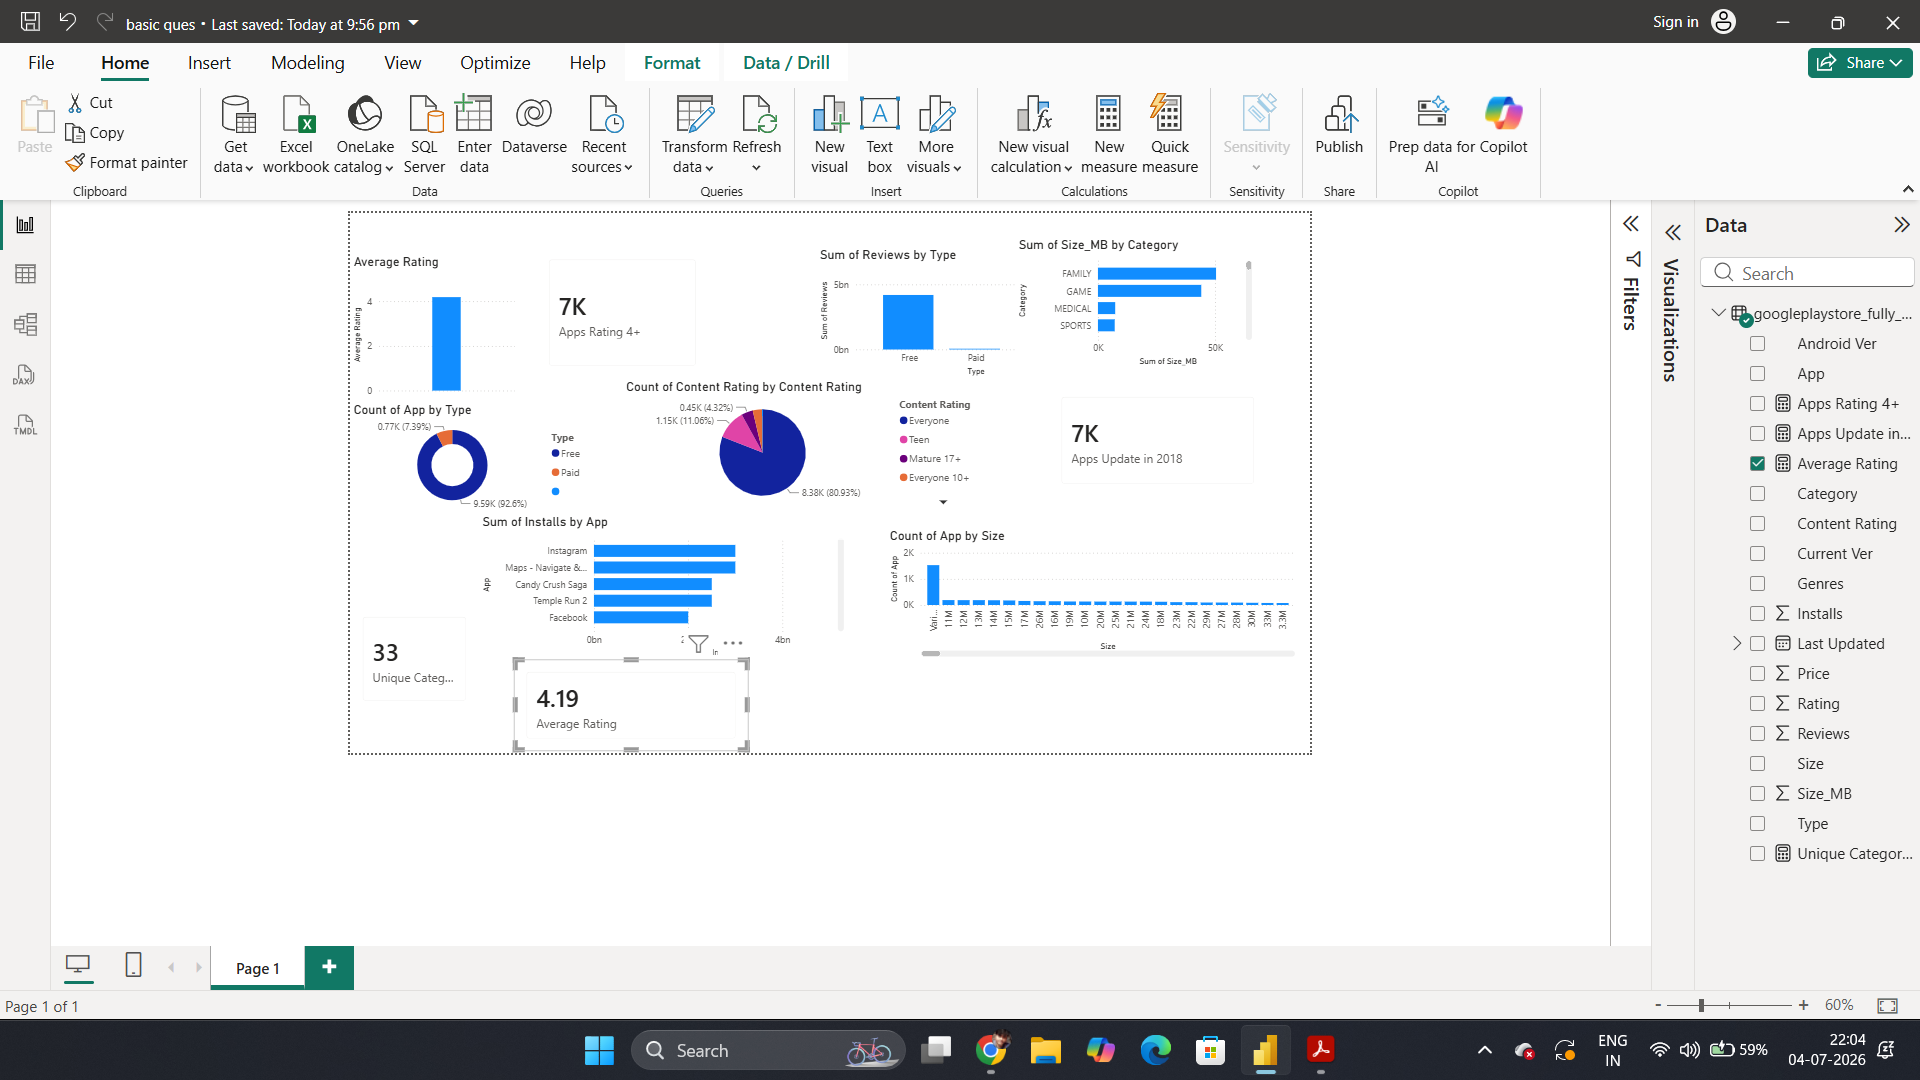

The dashboard page shown, as its layout file describes it:
{"tool":"powerbi","page":{"name":"Page 1","canvas":[1280,720],"ordinal":0},"visuals":[{"type":"clusteredBarChart","fields":{"Category":["googleplaystore_fully_cleaned.Category"],"Y":["Sum(googleplaystore_fully_cleaned.Installs)"]},"box":[0,164.4,704.1,275.3],"z":0},{"type":"scatterChart","fields":{"X":["Sum(googleplaystore_fully_cleaned.Installs)"],"Y":["Avg(googleplaystore_fully_cleaned.Reviews)"],"Series":["googleplaystore_fully_cleaned.Category"]},"box":[704.1,164.4,576.2,275],"z":1000},{"type":"donutChart","fields":{"Category":["googleplaystore_fully_cleaned.Type"],"Y":["CountNonNull(googleplaystore_fully_cleaned.App)"]},"box":[460.3,439.7,374.2,280],"z":2000},{"type":"clusteredColumnChart","fields":{"Category":["googleplaystore_fully_cleaned.Content Rating"],"Y":["Sum(googleplaystore_fully_cleaned.Installs)"]},"box":[0,439.7,460.3,280.8],"z":3000},{"type":"cardVisual","fields":{"Data":["googleplaystore_fully_cleaned.Average Rating"]},"box":[97.3,64.4,179.5,100],"z":4000},{"type":"cardVisual","fields":{"Data":["Sum(googleplaystore_fully_cleaned.Installs)"]},"box":[276.7,64.4,163,100],"z":5000},{"type":"cardVisual","fields":{"Data":["Avg(googleplaystore_fully_cleaned.Reviews)"]},"box":[439.7,64.4,201.4,100],"z":6000},{"type":"cardVisual","fields":{"Data":["CountNonNull(googleplaystore_fully_cleaned.Category)","select"]},"box":[641.1,64.4,193.2,100],"z":7000},{"type":"cardVisual","fields":{"Data":["googleplaystore_fully_cleaned.Apps Rating 4+"]},"box":[833.8,63.8,172.5,101.2],"z":8000},{"type":"textbox","box":[317.5,15,516.2,43.8],"z":9000},{"type":"clusteredBarChart","fields":{"Category":["googleplaystore_fully_cleaned.App"],"Y":["Sum(googleplaystore_fully_cleaned.Installs)"]},"box":[834.2,439.7,446.2,280],"z":10000}]}

Visuals, with their boxes on the page's 1280x720 design canvas (x1, y1, x2, y2). These are canvas units, not pixel positions in the 1920x1080 screenshot, which may show the page scaled, cropped or inside an application window:
clusteredBarChart - googleplaystore_fully_cleaned.Category x Sum(googleplaystore_fully_cleaned.Installs): (x1=0, y1=164, x2=704, y2=440)
scatterChart - Sum(googleplaystore_fully_cleaned.Installs) x Avg(googleplaystore_fully_cleaned.Reviews): (x1=704, y1=164, x2=1280, y2=439)
donutChart - googleplaystore_fully_cleaned.Type x CountNonNull(googleplaystore_fully_cleaned.App): (x1=460, y1=440, x2=834, y2=720)
clusteredColumnChart - googleplaystore_fully_cleaned.Content Rating x Sum(googleplaystore_fully_cleaned.Installs): (x1=0, y1=440, x2=460, y2=720)
cardVisual - googleplaystore_fully_cleaned.Average Rating: (x1=97, y1=64, x2=277, y2=164)
cardVisual - Sum(googleplaystore_fully_cleaned.Installs): (x1=277, y1=64, x2=440, y2=164)
cardVisual - Avg(googleplaystore_fully_cleaned.Reviews): (x1=440, y1=64, x2=641, y2=164)
cardVisual - CountNonNull(googleplaystore_fully_cleaned.Category) x select: (x1=641, y1=64, x2=834, y2=164)
cardVisual - googleplaystore_fully_cleaned.Apps Rating 4+: (x1=834, y1=64, x2=1006, y2=165)
textbox: (x1=318, y1=15, x2=834, y2=59)
clusteredBarChart - googleplaystore_fully_cleaned.App x Sum(googleplaystore_fully_cleaned.Installs): (x1=834, y1=440, x2=1280, y2=720)
